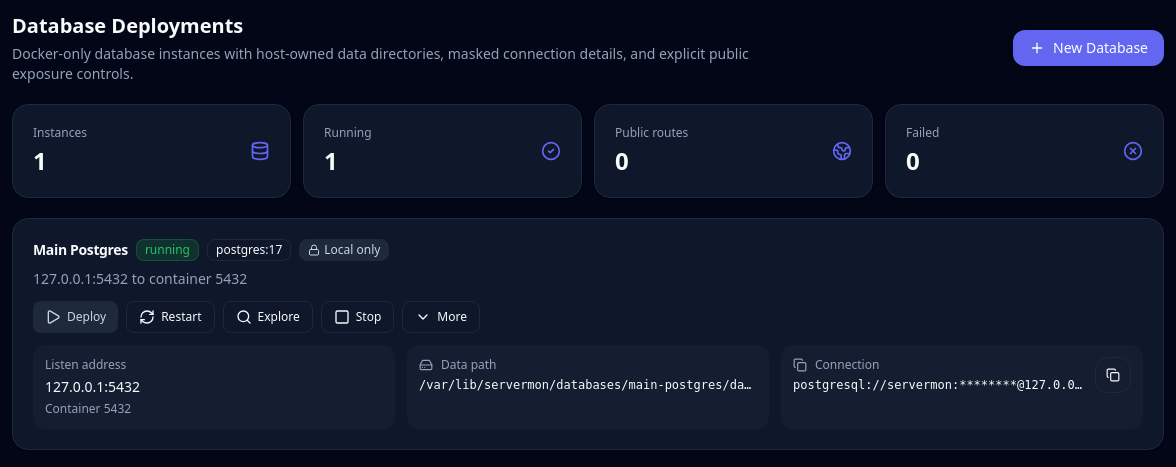
Test: DatabasesPage › copies the masked connection string from an explicit copy action
expect the heading "Main Postgres" is shown: met, box [33,243,128,257]
Click the button named "Copy connection string for Main Postgres" at (1113, 375), box [1095,357,1131,393]
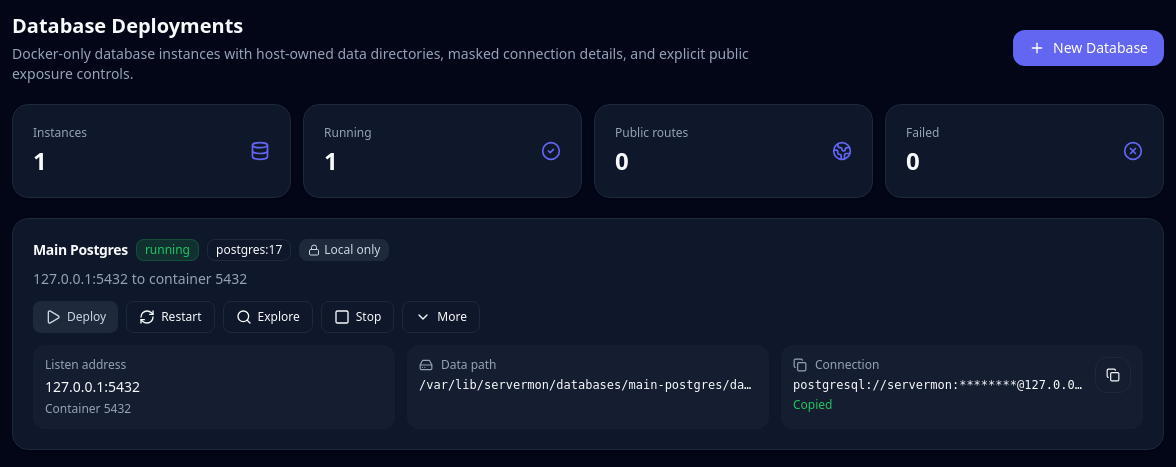
expect the text "Copied" is shown: met, box [793,396,832,413]
